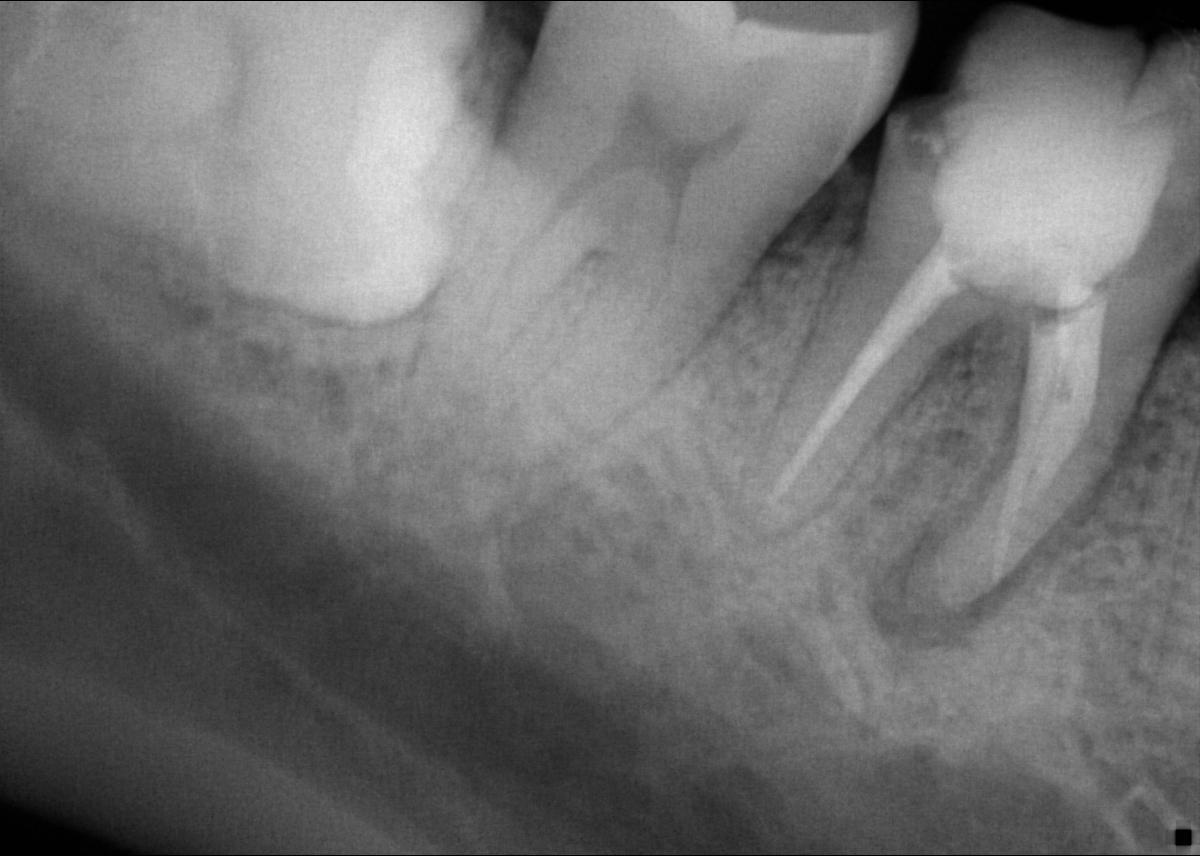Furcation Involvement: (871, 425, 1118, 658)
